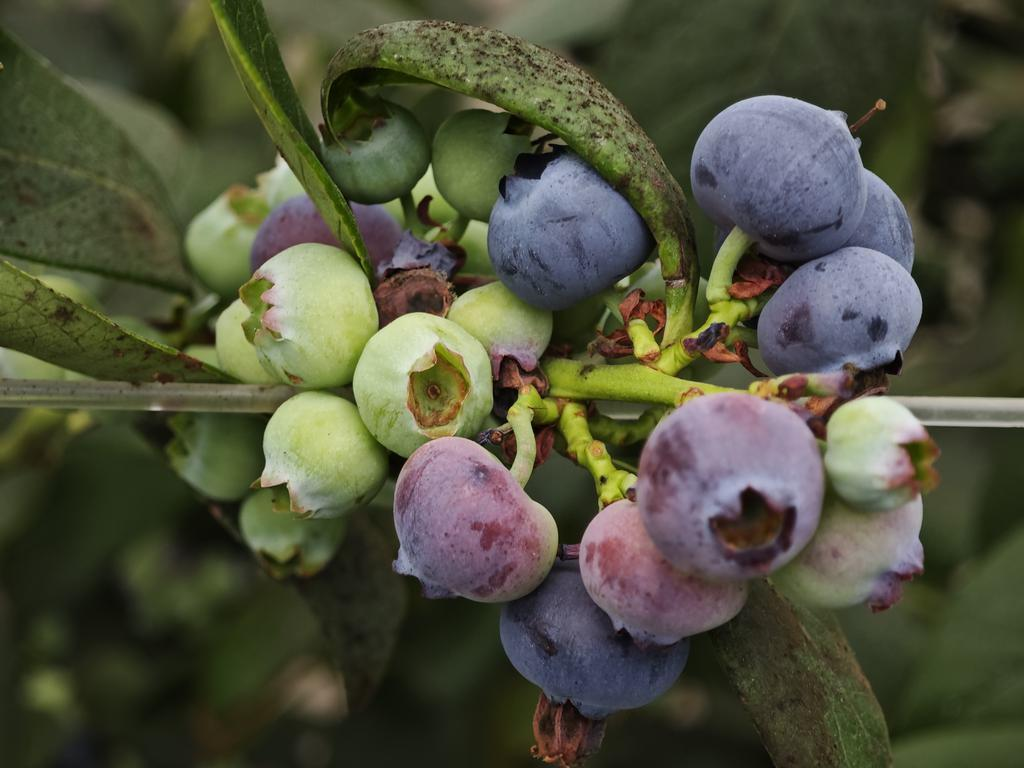RipeBlueBerry: (750, 242, 932, 388), (696, 92, 863, 246), (490, 158, 642, 301)
Semi-RipeBlueBerry: (640, 388, 824, 578), (393, 441, 557, 610)
UnripeBlueBerry: (248, 238, 373, 383), (360, 312, 490, 444), (262, 393, 378, 519), (830, 402, 942, 507)
